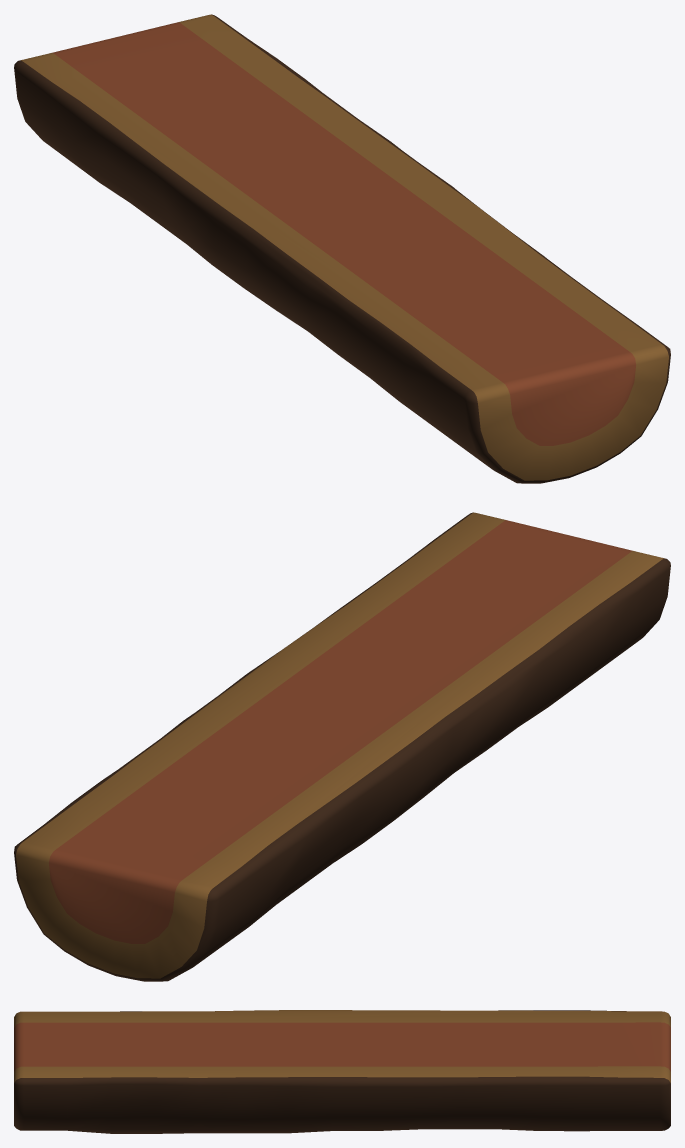
Rendered from log-3.obj.
The picture shows the model from 3 angles, top to bottom: view 1: azimuth 30°, elevation 25°; view 2: azimuth 150°, elevation 25°; view 3: azimuth 270°, elevation 25°; orthographic projection. The views are drawn at different scales.
Visible parts, largest first — view 1: Log_Cylinder; view 2: Log_Cylinder; view 3: Log_Cylinder.
Boxes of the visible parts, left/top/right/bottom form: Log_Cylinder: left=14, top=14, right=670, bottom=483; Log_Cylinder: left=14, top=512, right=670, bottom=981; Log_Cylinder: left=14, top=1010, right=670, bottom=1133.
Bounding box in the file's own units: 0.2579 × 0.1331 × 0.9866.
